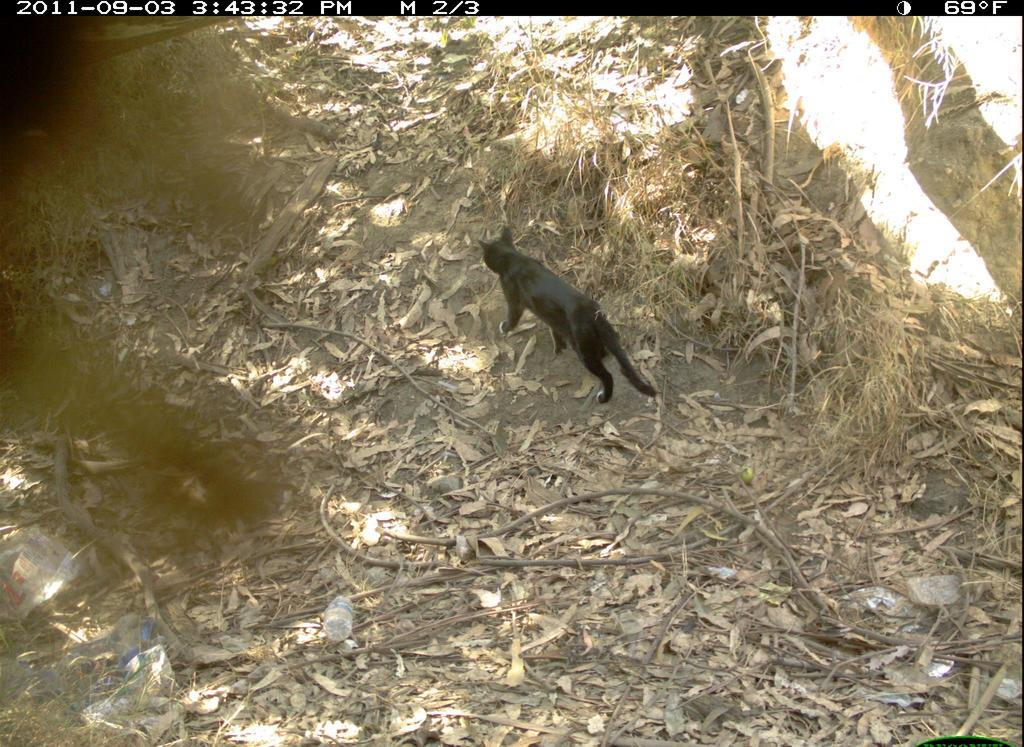cat: (463, 214, 673, 423)
